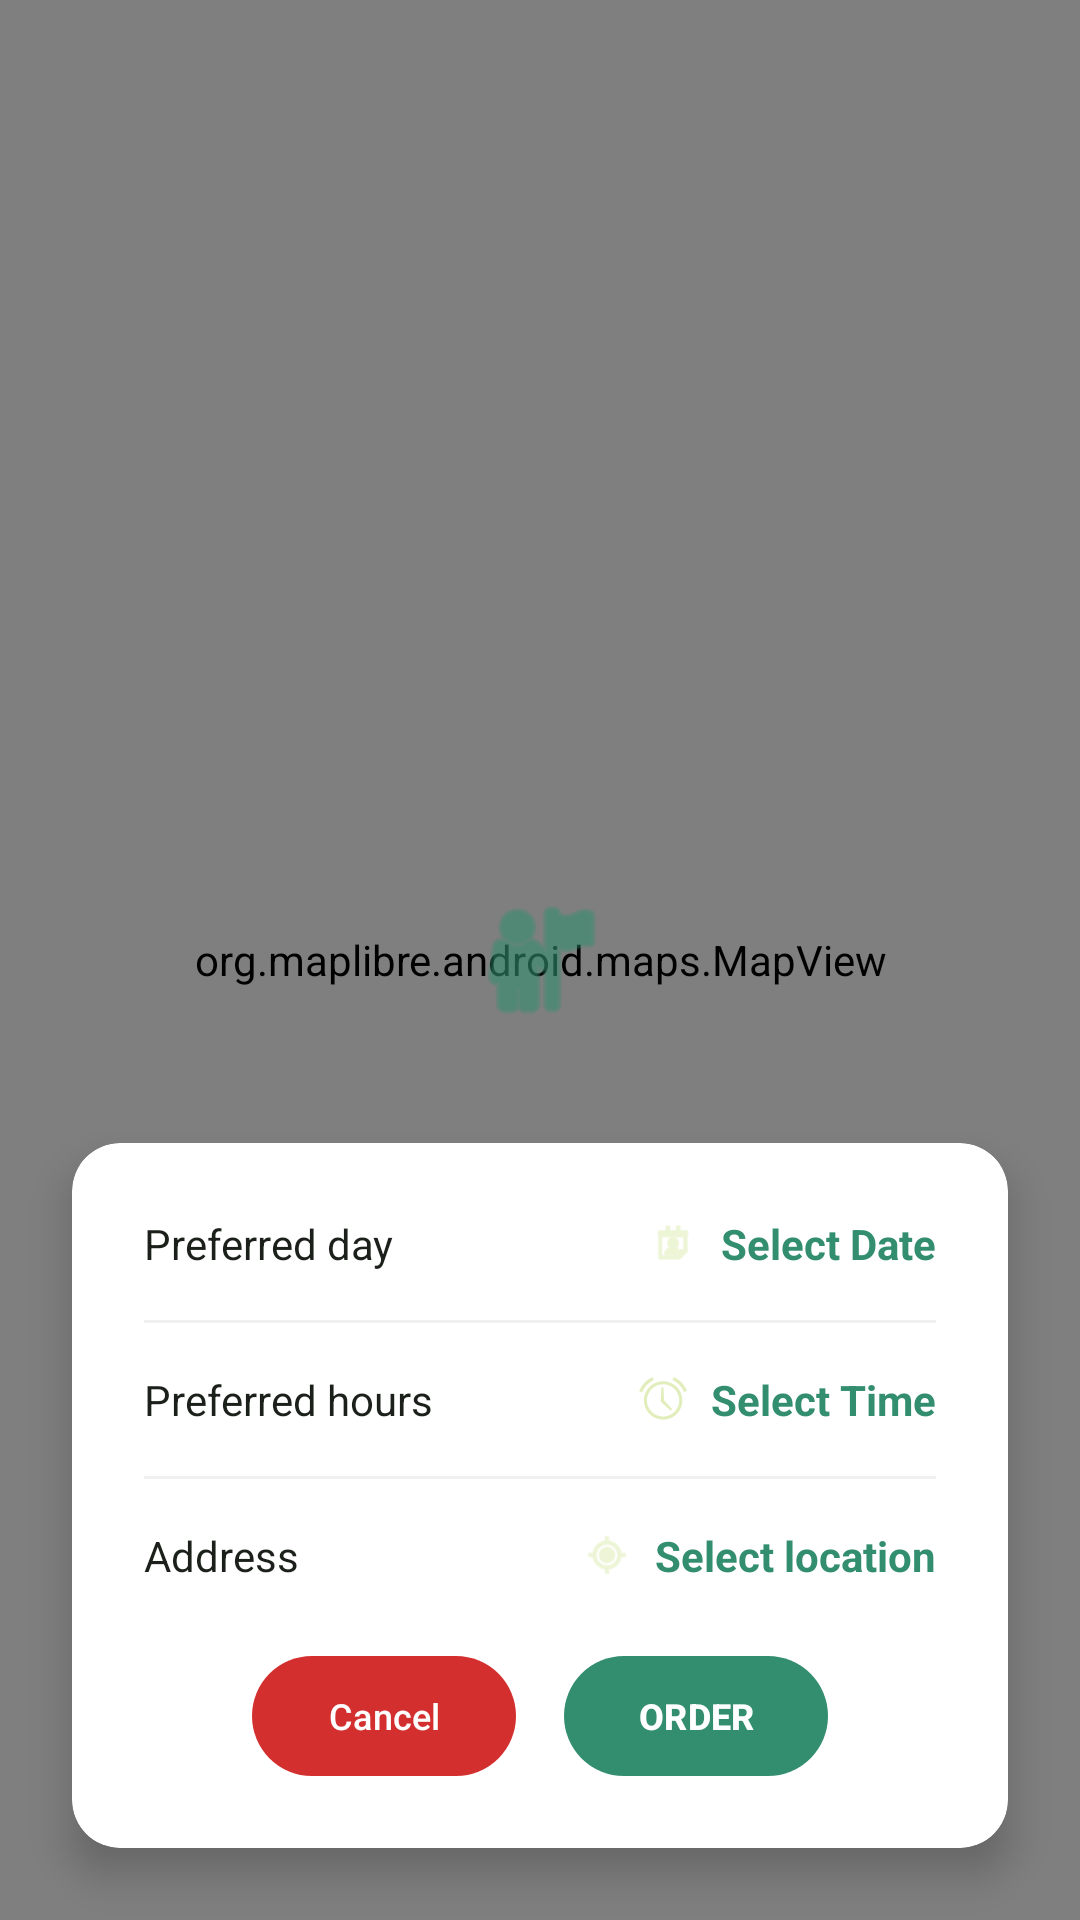

Named icons in this screenshot (1080×1920) and their centers, (x=x, y=y):
calendar: (x=673, y=1242)
lock idle alarm: (x=663, y=1398)
mylocation: (x=607, y=1555)
